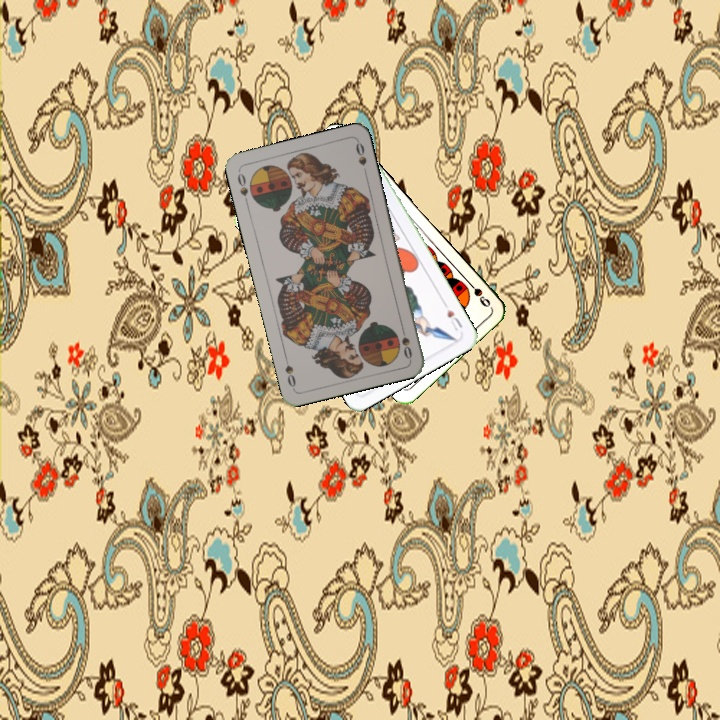HU: (443, 305, 465, 333)
S9: (462, 276, 493, 310)
SO: (397, 321, 415, 362), (233, 167, 251, 208)
